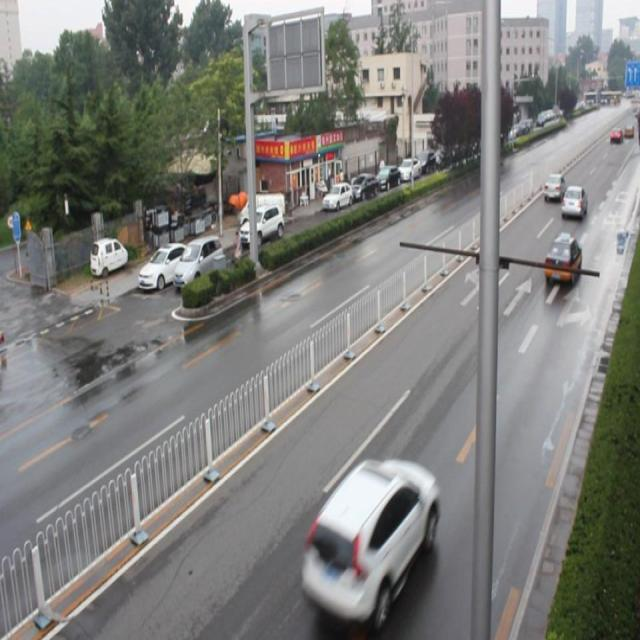car: (303, 455, 438, 621), (543, 234, 579, 286), (560, 185, 586, 218), (543, 174, 563, 201)
